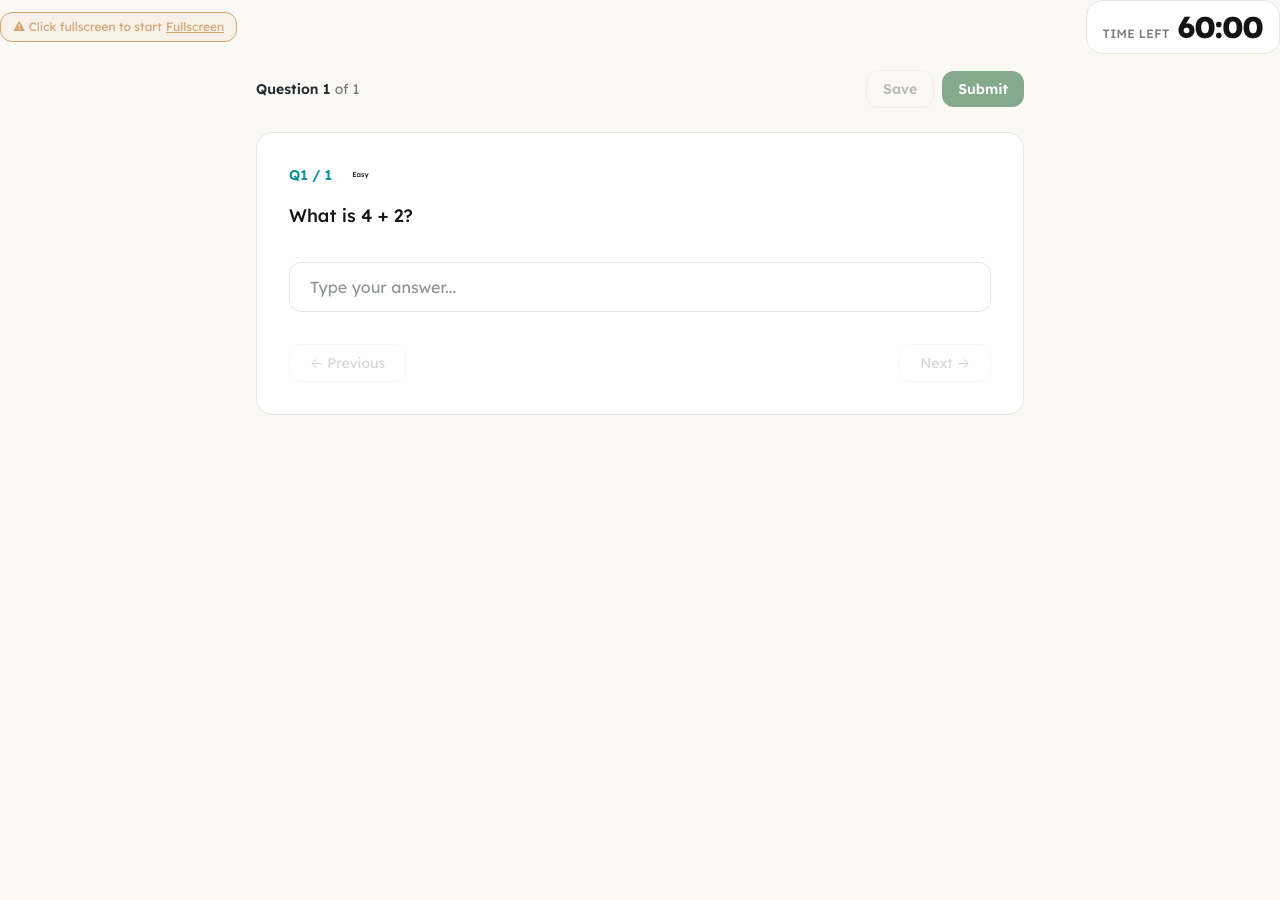
Test case: Exam Save and Submit Buttons › submit button shows confirmation when unanswered questions exist
This screenshot has width=1280, height=900.
Click the button "Submit" at {"x": 983, "y": 89}, box [942,71,1024,107]
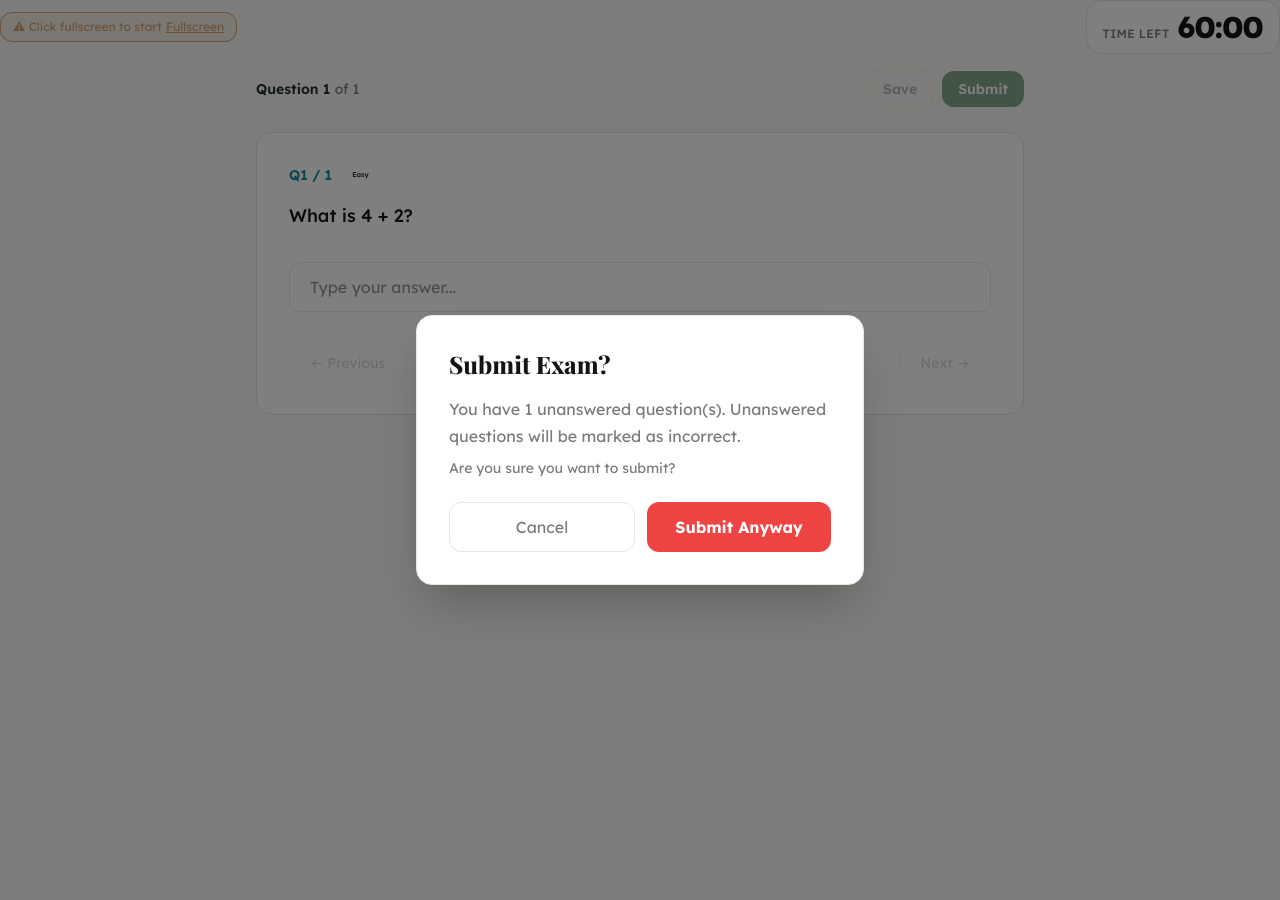
Expected: the heading "Submit Exam?" is shown, [449,348,611,380]
